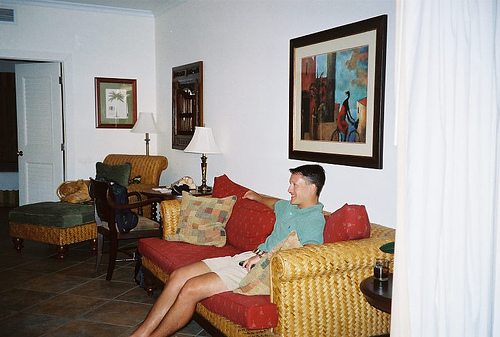without_mask: (284, 167, 325, 211)
